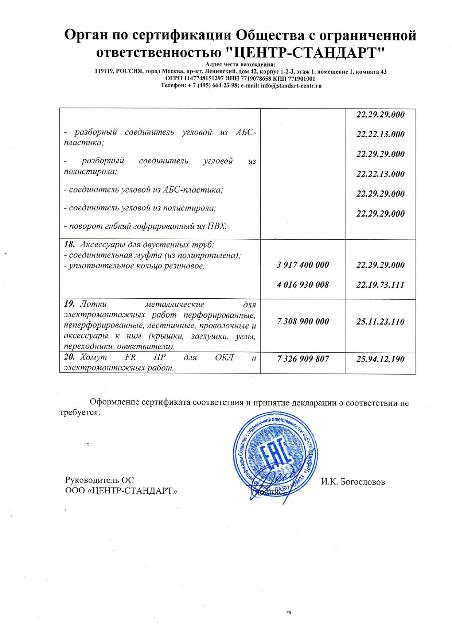stamp: (235, 413, 316, 497)
